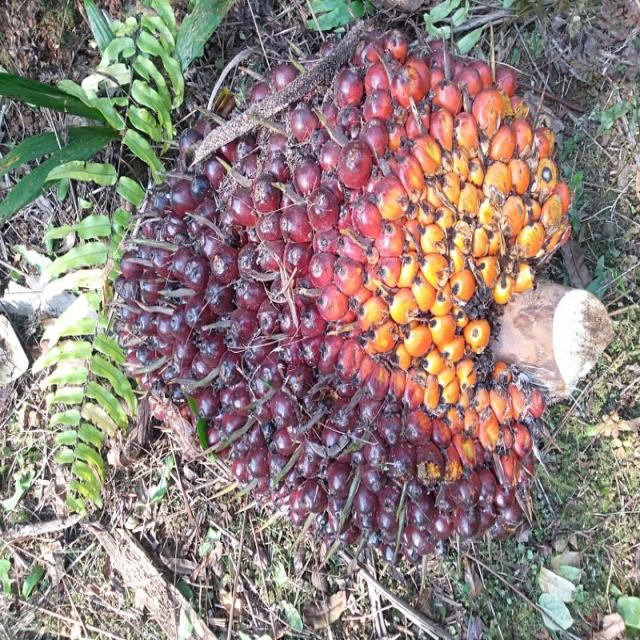fraksi 1: (97, 15, 615, 584)
